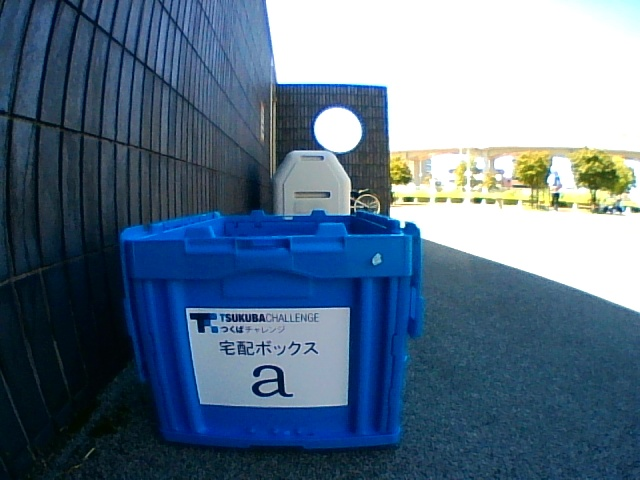blue_box: (119, 210, 424, 448)
tag_a: (202, 315, 347, 405)
